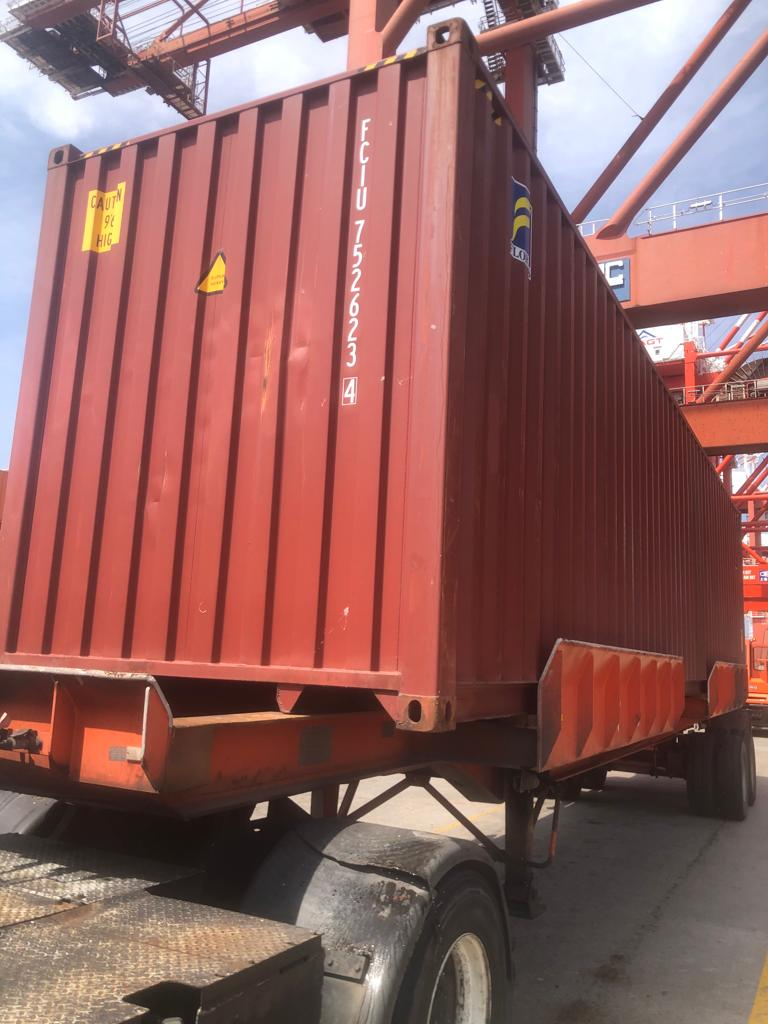moderate: (215, 332, 306, 422)
